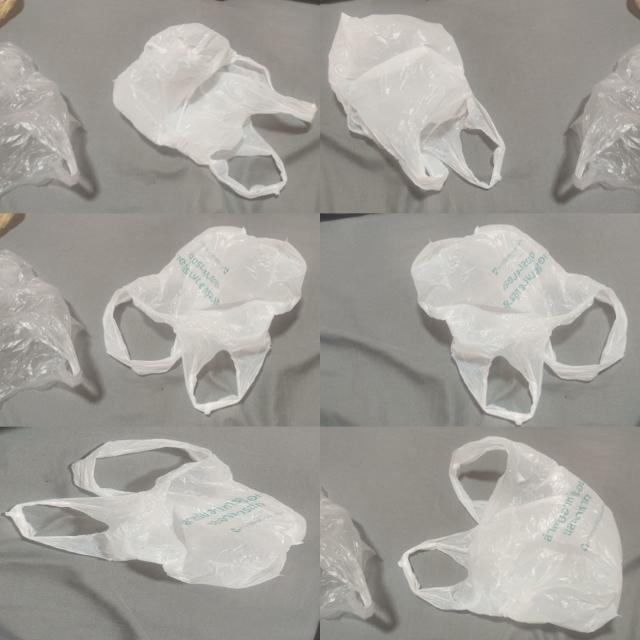Single-layer Plastic: (5, 439, 306, 589), (399, 436, 622, 632), (412, 225, 627, 425), (103, 226, 306, 414), (113, 22, 316, 199), (328, 14, 505, 190), (0, 250, 83, 402), (0, 42, 79, 194), (570, 45, 640, 191), (320, 490, 375, 619)
